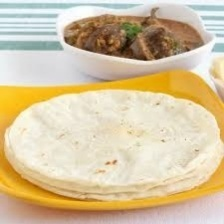sabzi: (58, 6, 209, 67)
